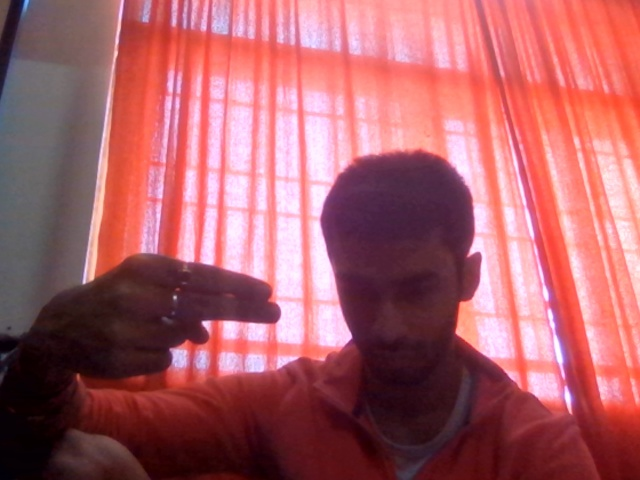H: (21, 223, 297, 396)
